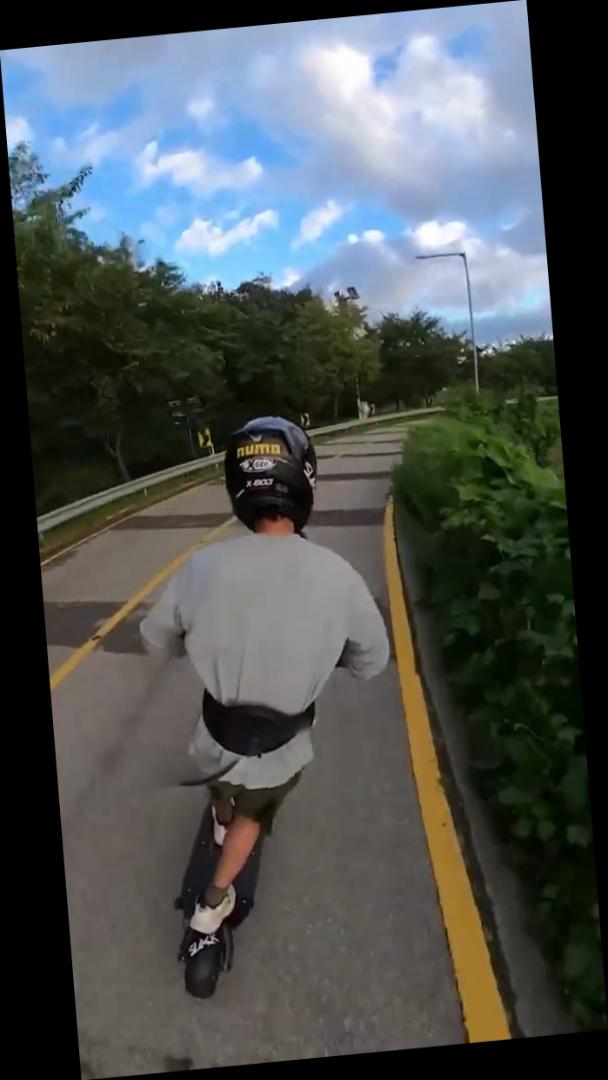helmet: (119, 401, 421, 1008)
